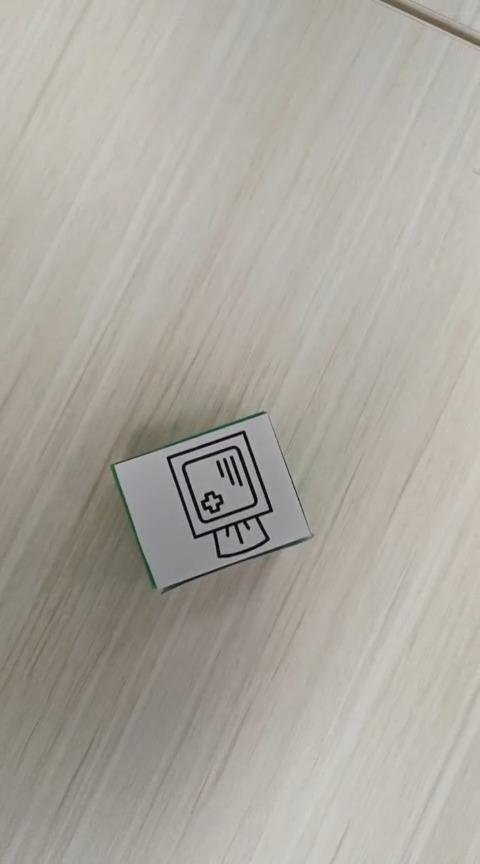Gauze: (109, 409, 314, 592)
